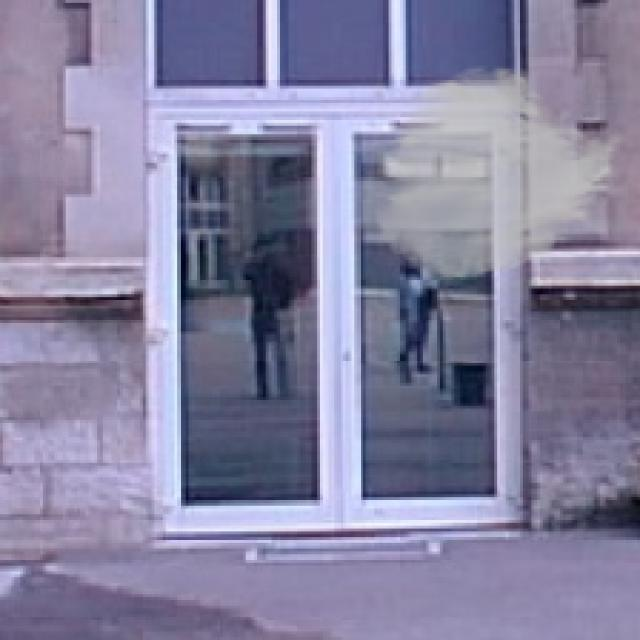smoke: (372, 63, 632, 283)
